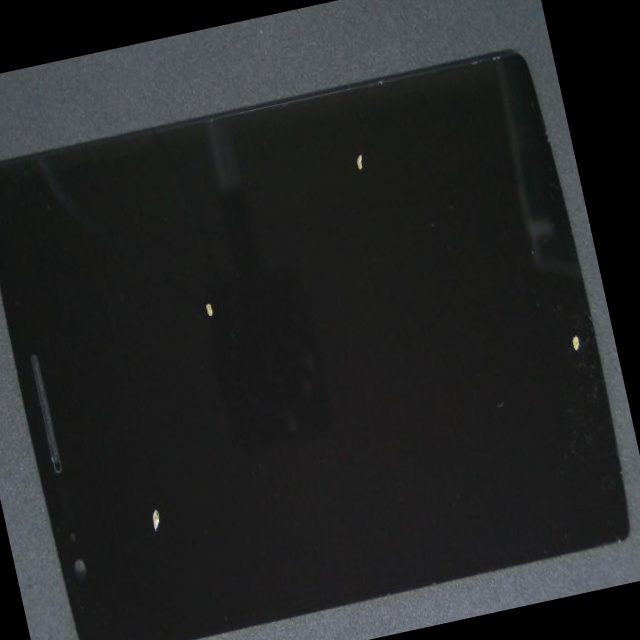stain: (223, 185, 640, 640), (97, 75, 571, 334), (38, 163, 366, 523), (0, 346, 242, 640)
